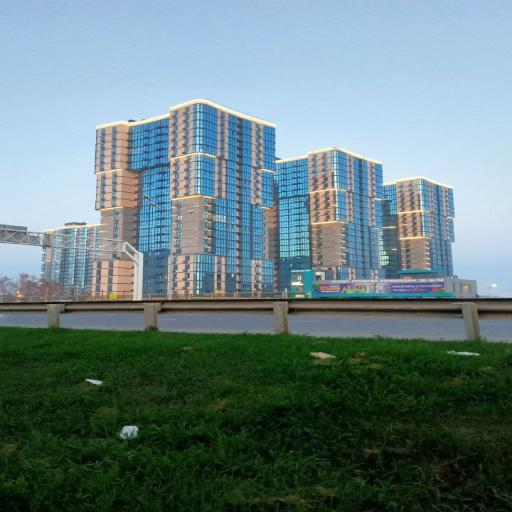phone: (124, 242, 143, 300), (489, 284, 497, 297)
ramp: (289, 315, 464, 340)
